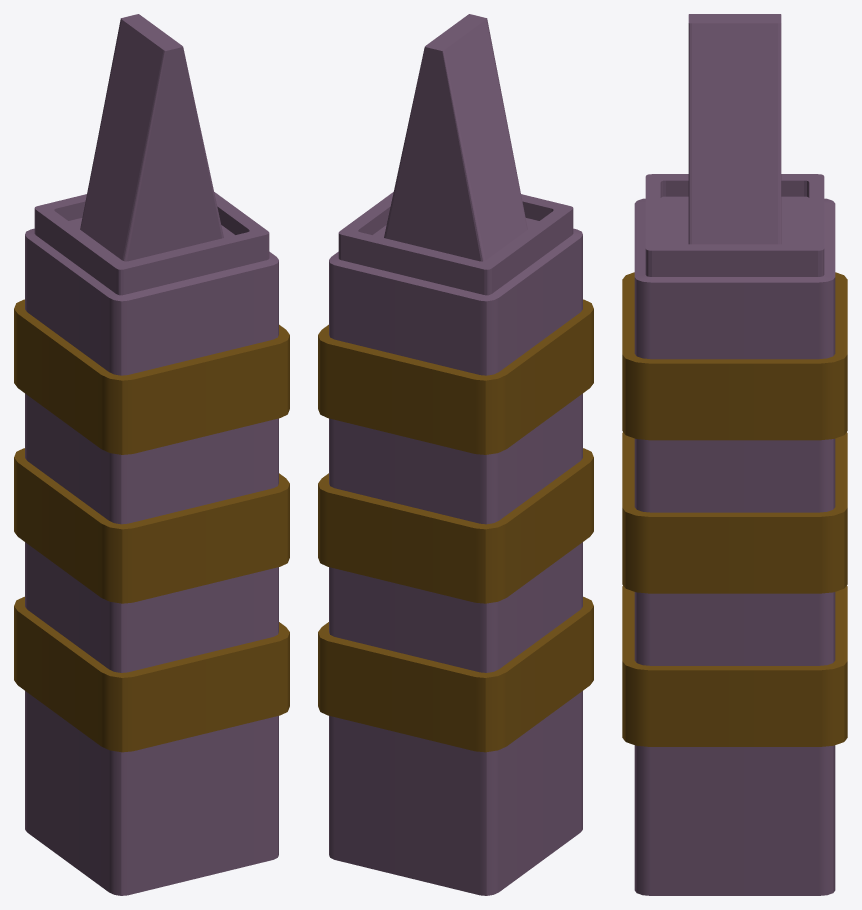
3 renders of one model, left to right at view 1: azimuth 30°, elevation 25°; view 2: azimuth 150°, elevation 25°; view 3: azimuth 270°, elevation 25°, orthographic. The views are drawn at different scales.
Parts seen in each view (by area): view 1: B13New; view 2: B13New; view 3: B13New.
Boxes of the visible parts, x1,y1,x2,y2 form: B13New: [14, 14, 289, 895]; B13New: [318, 14, 593, 895]; B13New: [622, 14, 847, 895].
Size of the model in its own units: 18.69 by 78.16 by 19.13.
